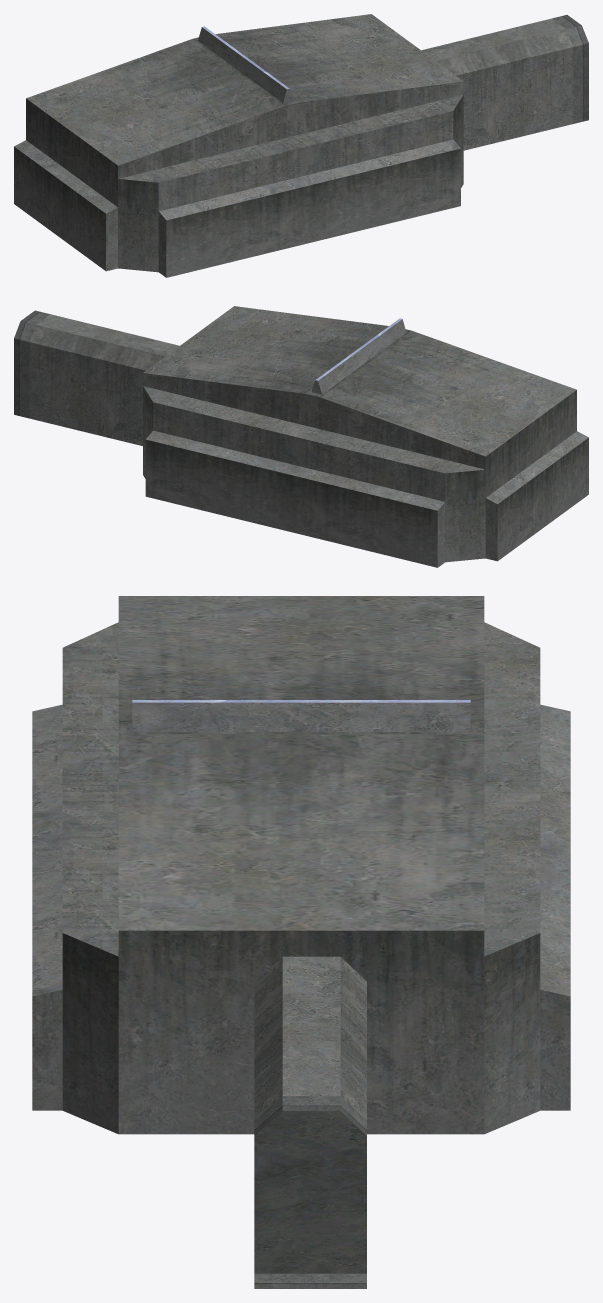
Rendered from thm_yavn_jedi_enclave_dark_r9_cloning_mesh.fbx.
3 renders of one model, top to bottom at view 1: azimuth 30°, elevation 25°; view 2: azimuth 150°, elevation 25°; view 3: azimuth 270°, elevation 25°, orthographic. The views are drawn at different scales.
Visible parts, largest first — view 1: mesh_node; view 2: mesh_node; view 3: mesh_node.
Boxes of the visible parts, box(x1,y1,x2,y2) form: mesh_node: box(14, 14, 588, 277); mesh_node: box(14, 306, 588, 567); mesh_node: box(32, 596, 570, 1288).
Size of the model in its own units: 21.07 by 5.24 by 9.58.
